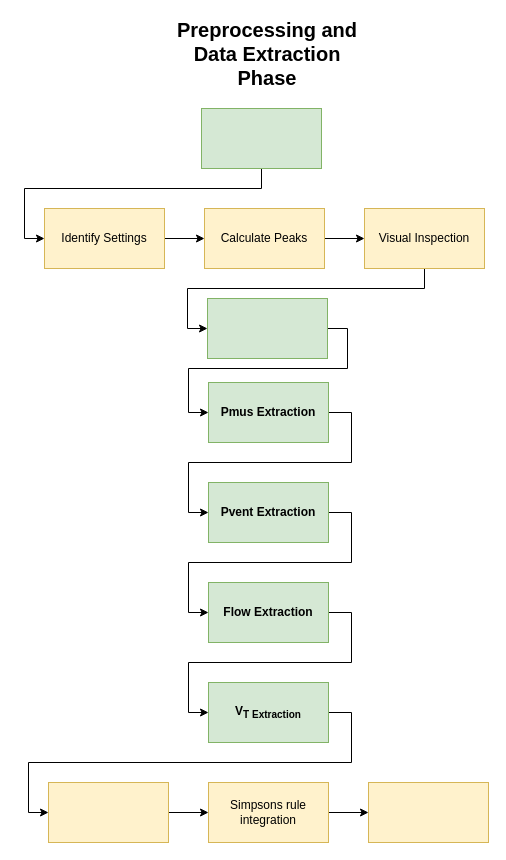
The diagram is 506 pixels wide and 860 high, and some of its shapes have lost their labels. Here are the shapes that lost their labels. From the top down, the centre of each, then its label:
[261,138]: Peak and Valley Analysis
[267,328]: Bucketing
[108,812]: Zeroing of data for insp- or expiratory extraction
[428,812]: Scaling of units
